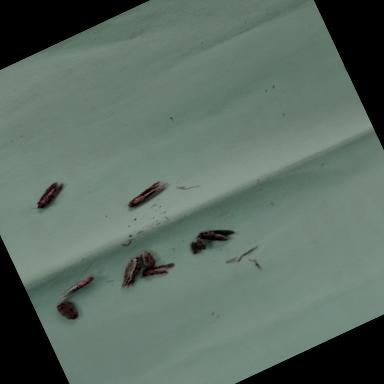pbw: (20, 175, 78, 218), (121, 174, 175, 210), (110, 254, 152, 294), (194, 218, 240, 254), (52, 272, 100, 303), (140, 255, 180, 286), (54, 292, 88, 326), (131, 244, 162, 275), (181, 233, 214, 260)
